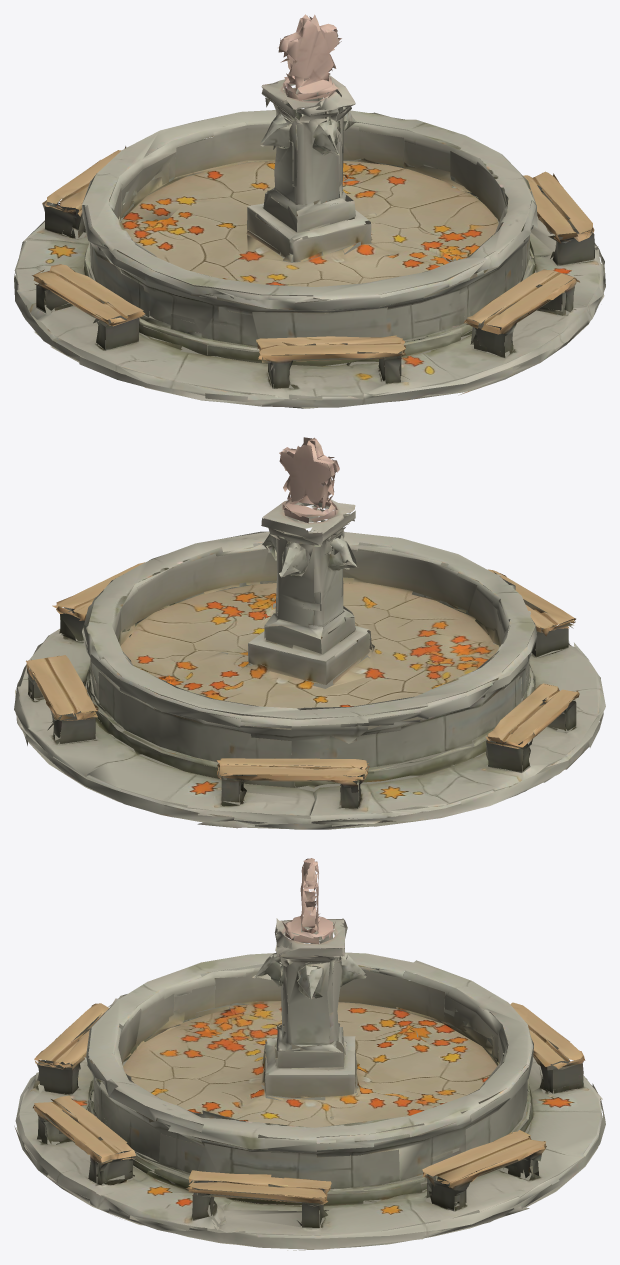
Rendered from dryFountain.glb.
3 renders of one model, top to bottom at view 1: azimuth 30°, elevation 25°; view 2: azimuth 150°, elevation 25°; view 3: azimuth 270°, elevation 25°, orthographic.
Parts seen in each view (by area): view 1: dryFountain; view 2: dryFountain; view 3: dryFountain.
Part boxes in pixels (x1,y1,x2,y2): dryFountain: [14, 14, 605, 408]; dryFountain: [14, 437, 605, 829]; dryFountain: [14, 858, 605, 1250].
Size of the model in its own units: 1.82 by 0.9059 by 1.82.
1 material, 1 textured.
